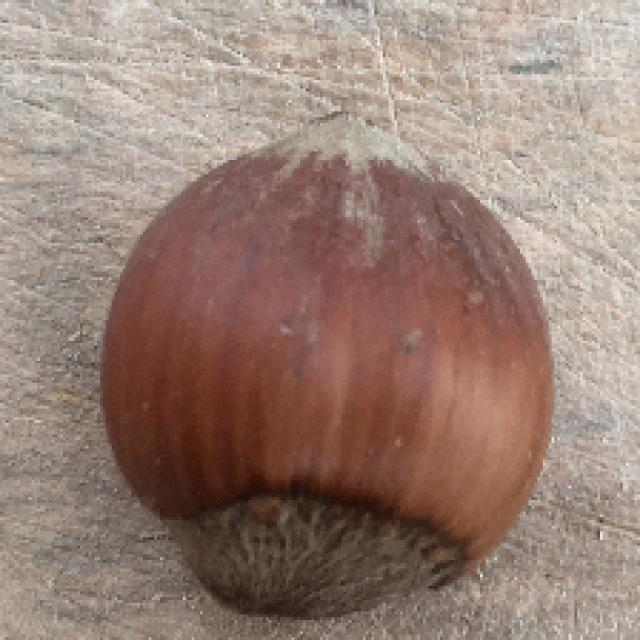DamagedHazelnut: (100, 111, 552, 619)
